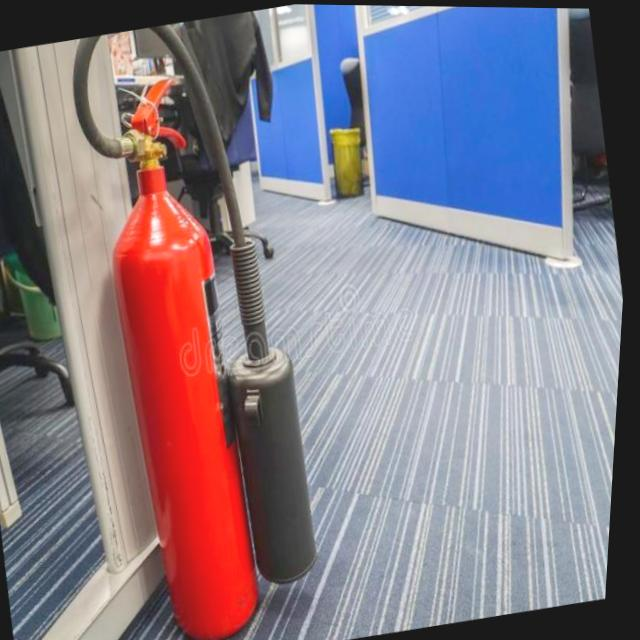FireExtinguisher: (34, 7, 365, 640)
